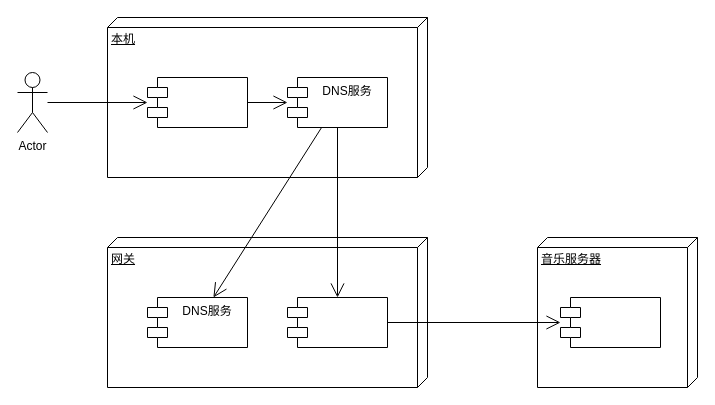
The diagram is 715 pixels wide and 405 high, and some of its shapes have lost their labels. Each missing label, with the centre of its shape:
"客户端" goes at pixel 197 102.
"网络服务" goes at pixel 337 322.
"音乐服务" goes at pixel 610 322.
